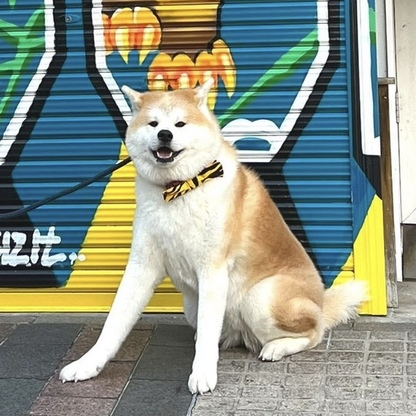akita: (47, 74, 379, 400)
